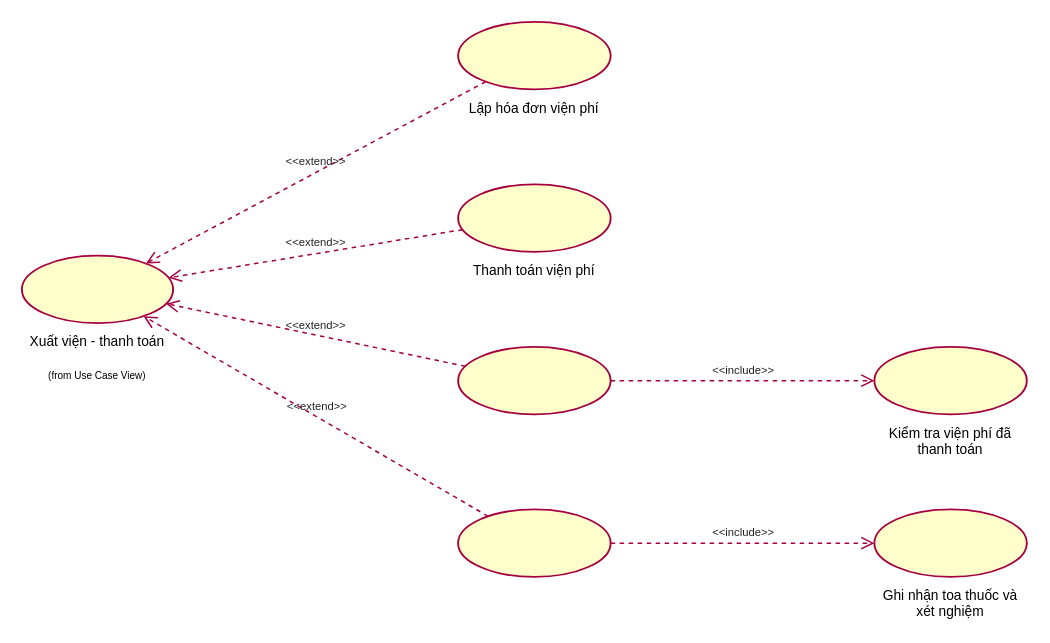
Some shapes in this 1050 by 643 pixel diagram are drawn without their labels. The centre of each missing label's shape, as x and y in pixels:
Ghi nhận phiếu khám vào hồ sơ: the point at 534,542
Làm thủ tục xuất viện: the point at 534,380
